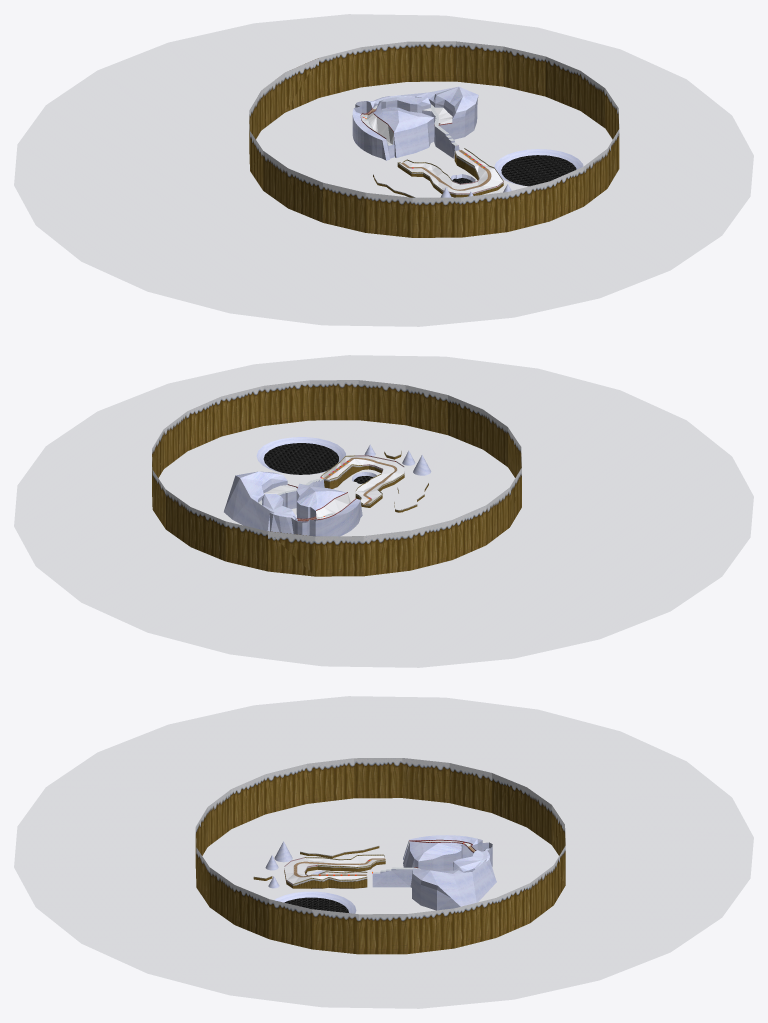
The picture shows the model from 3 angles, top to bottom: view 1: azimuth 30°, elevation 25°; view 2: azimuth 150°, elevation 25°; view 3: azimuth 270°, elevation 25°; orthographic projection.
Parts seen in each view (by area): view 1: Icy_Mountaintop-SKP--snow, Icy_Mountaintop-SKP--wall1, Icy_Mountaintop-SKP--wall5, Icy_Mountaintop-SKP--water; view 2: Icy_Mountaintop-SKP--snow, Icy_Mountaintop-SKP--wall1, Icy_Mountaintop-SKP--wall5, Icy_Mountaintop-SKP--water; view 3: Icy_Mountaintop-SKP--snow, Icy_Mountaintop-SKP--wall1, Icy_Mountaintop-SKP--wall5, Icy_Mountaintop-SKP--water.
Boxes of the visible parts, x1,y1,x2,y2 form: Icy_Mountaintop-SKP--snow: (14, 14, 753, 326); Icy_Mountaintop-SKP--wall1: (249, 41, 619, 237); Icy_Mountaintop-SKP--wall5: (352, 86, 583, 197); Icy_Mountaintop-SKP--water: (452, 155, 576, 186); Icy_Mountaintop-SKP--snow: (14, 355, 753, 667); Icy_Mountaintop-SKP--wall1: (152, 380, 521, 576); Icy_Mountaintop-SKP--wall5: (224, 437, 431, 536); Icy_Mountaintop-SKP--water: (263, 443, 373, 483); Icy_Mountaintop-SKP--snow: (14, 696, 753, 1008); Icy_Mountaintop-SKP--wall1: (195, 758, 565, 954); Icy_Mountaintop-SKP--wall5: (265, 835, 496, 913); Icy_Mountaintop-SKP--water: (284, 897, 348, 912).
Size of the model in its own units: 667148 by 45000 by 667148.
Materials: 18 (17 with a texture image).
